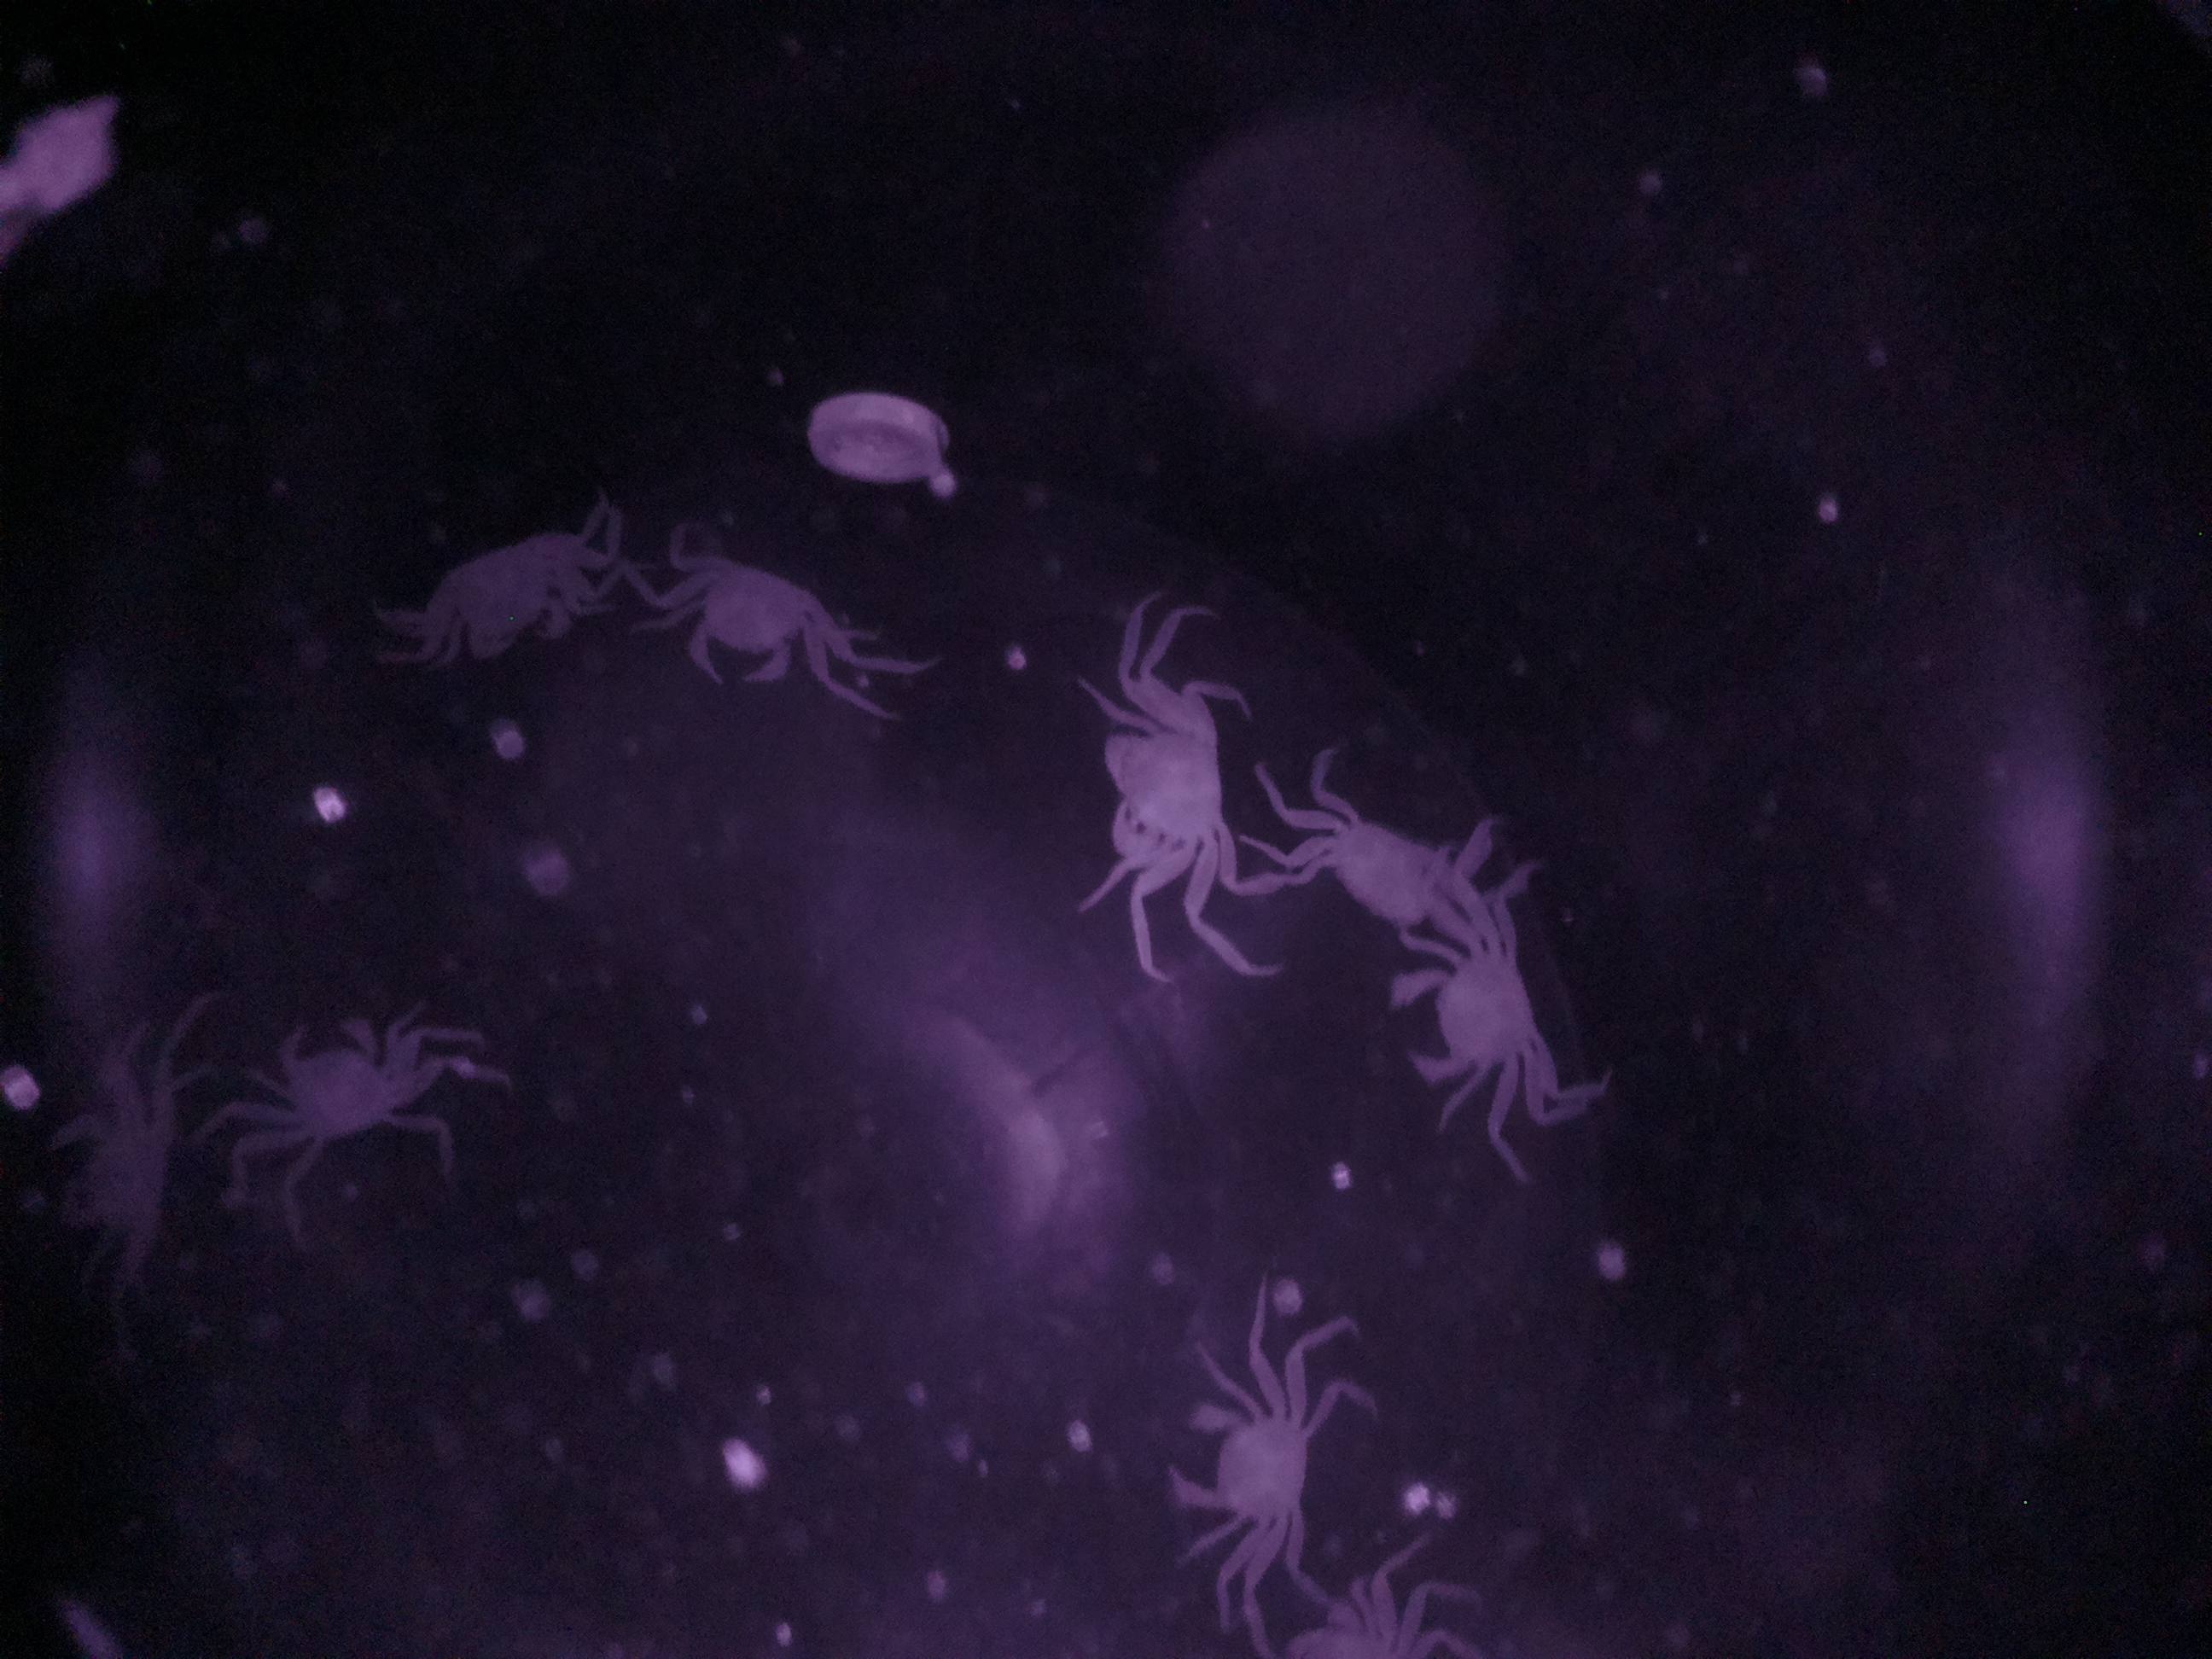Crab: (1153, 1319, 1341, 1577), (1374, 915, 1571, 1136), (1092, 650, 1244, 932), (620, 532, 855, 711), (239, 1000, 469, 1169)
